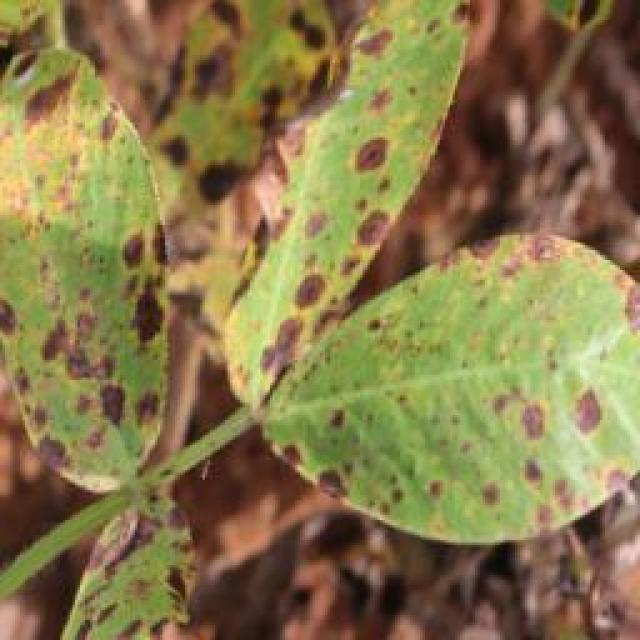Yellowish: (7, 0, 640, 538)
